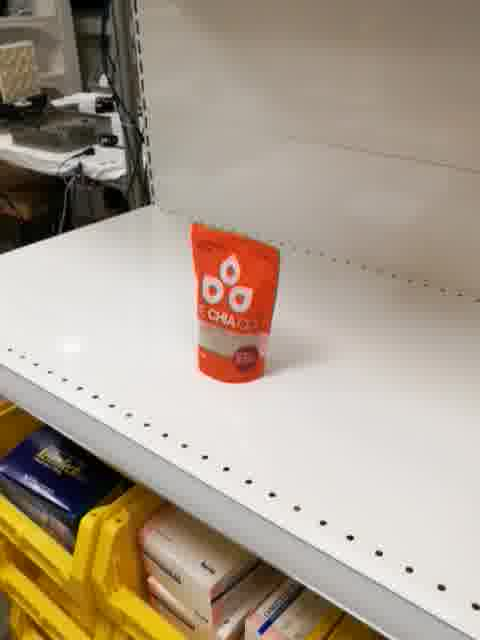whitechia: (188, 217, 282, 384)
